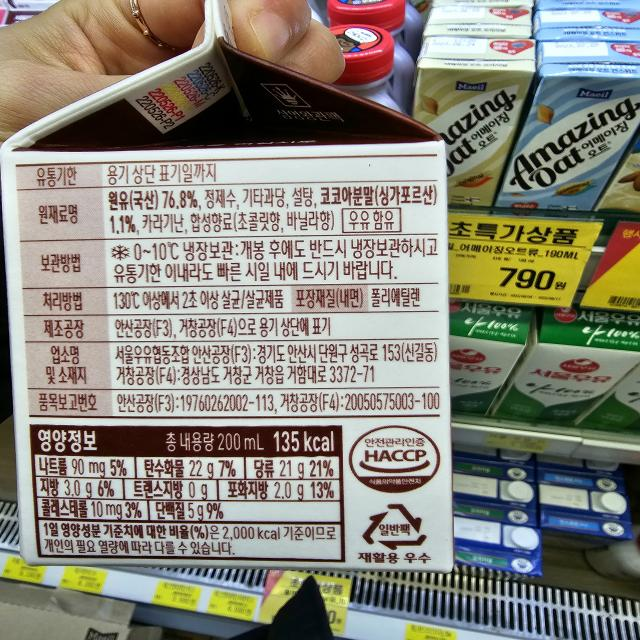NormalPack: (359, 496, 432, 551)
